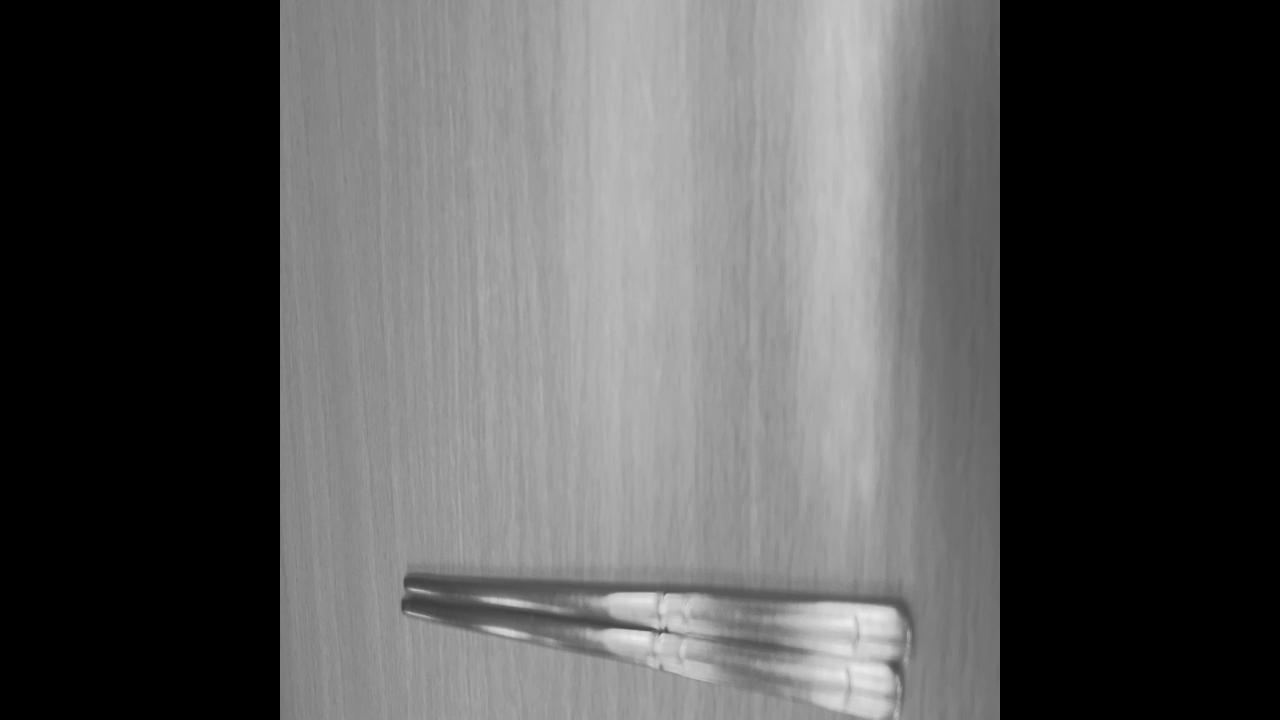chopstick: (404, 578, 905, 720)
